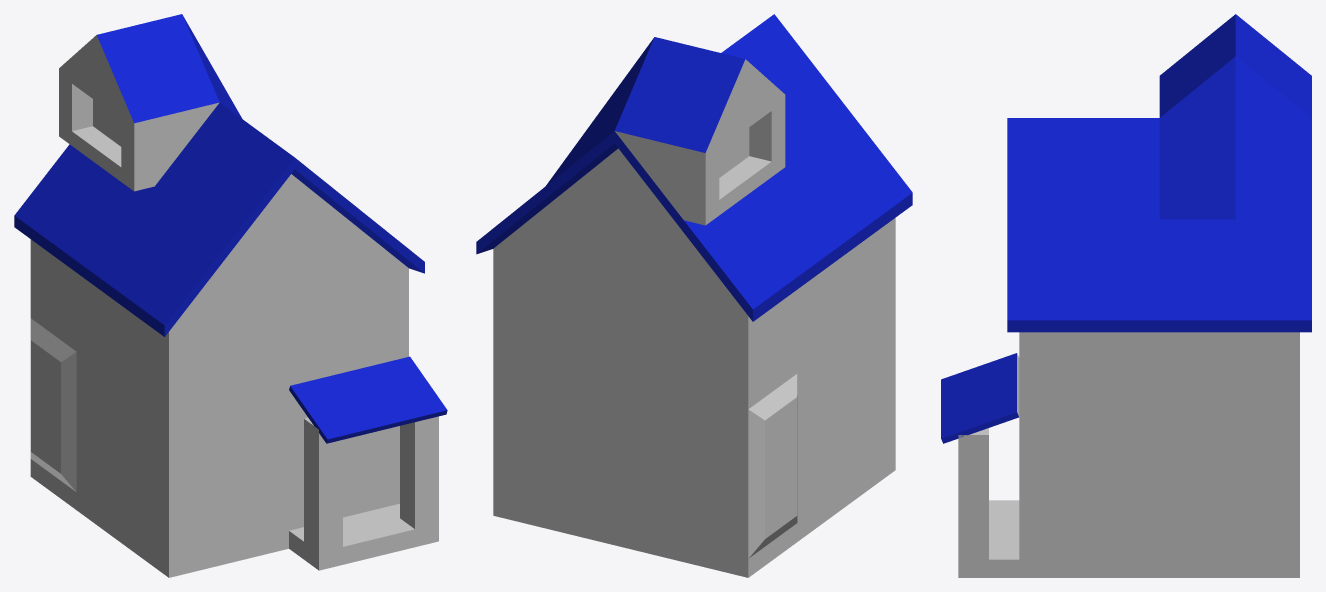
The model's file is maison moche.fbx.
3 renders of one model, left to right at view 1: azimuth 30°, elevation 25°; view 2: azimuth 150°, elevation 25°; view 3: azimuth 270°, elevation 25°, orthographic. The views are drawn at different scales.
Parts seen in each view (by area): view 1: Cube; view 2: Cube; view 3: Cube.
Part boxes in pixels (<box>): Cube: <box>14,14,447,577</box>; Cube: <box>476,14,912,577</box>; Cube: <box>941,14,1311,577</box>.
Size of the model in its own units: 434 by 727 by 528.
